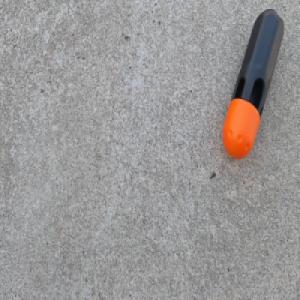PlasticPart: (221, 6, 285, 161)
